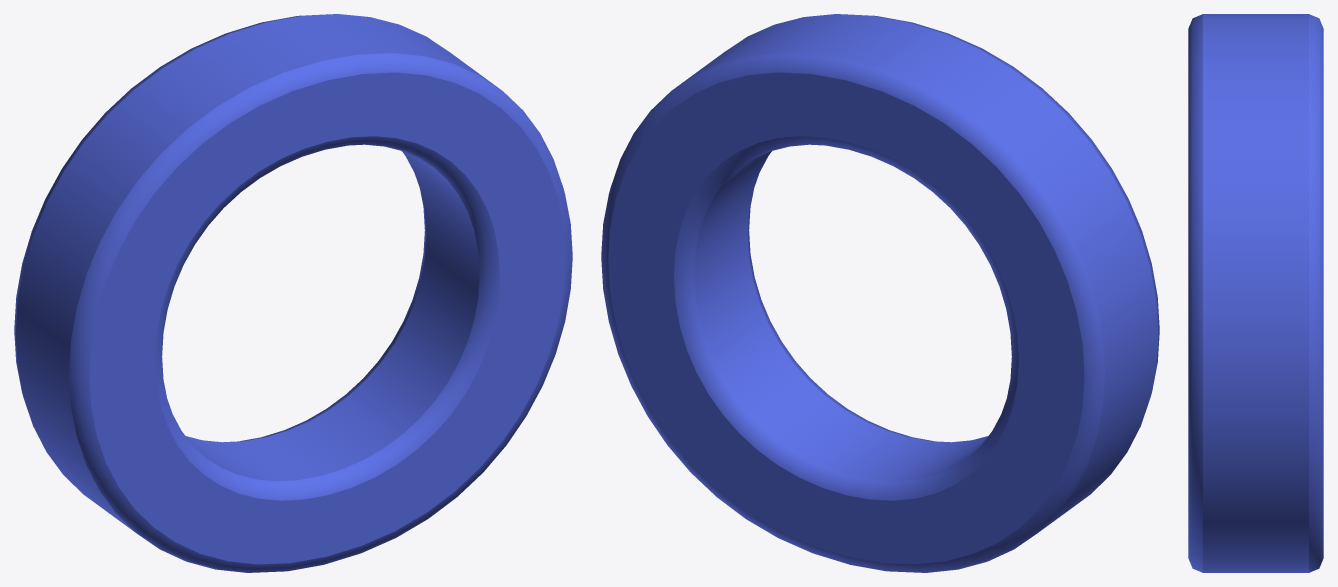
The picture shows the model from 3 angles, left to right: view 1: azimuth 30°, elevation 25°; view 2: azimuth 150°, elevation 25°; view 3: azimuth 270°, elevation 25°; orthographic projection.
Parts seen in each view (by area): view 1: Text; view 2: Text; view 3: Text.
Part boxes in pixels (box(x1,y1,x2,y2)): Text: box(14, 14, 572, 572); Text: box(601, 14, 1159, 572); Text: box(1188, 14, 1323, 572).
Size of the model in its own units: 367 by 351 by 86.33.
